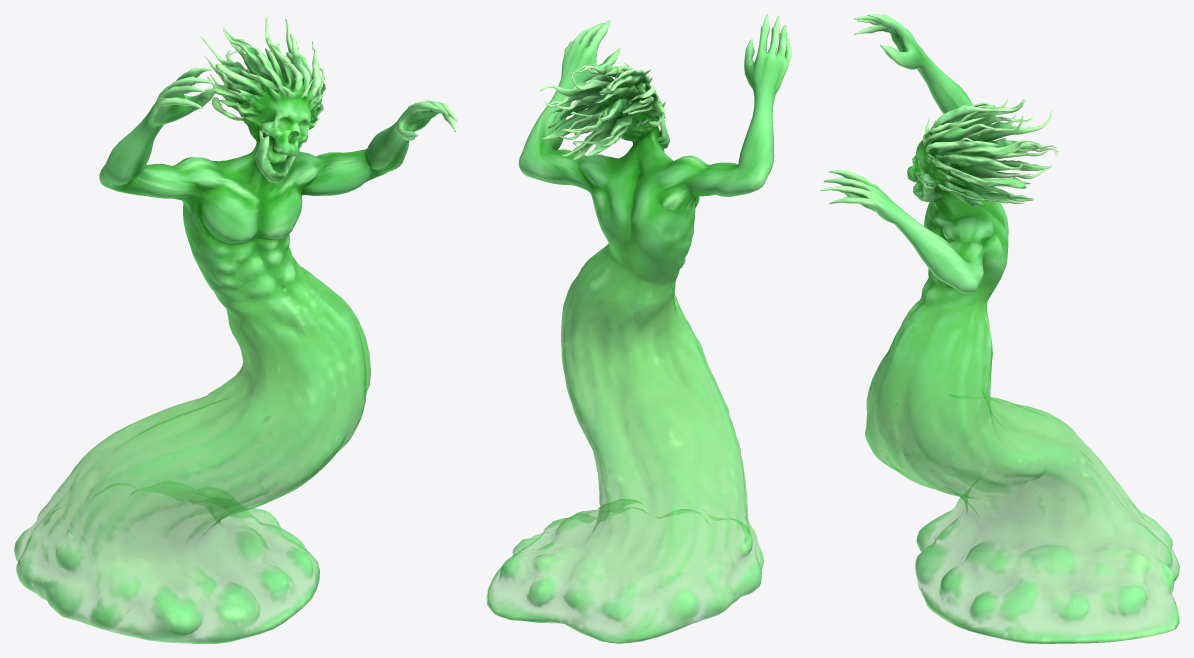
The model's file is MZ4250 - Specter_green.glb.
3 views of the same model, side by side, from view 1: azimuth 30°, elevation 25°; view 2: azimuth 150°, elevation 25°; view 3: azimuth 270°, elevation 25° (orthographic). The views are drawn at different scales.
Parts seen in each view (by area): view 1: Body.002; view 2: Body.002; view 3: Body.002.
Boxes of the visible parts, x1=… form: Body.002: x1=14, y1=14, x2=457, y2=643; Body.002: x1=486, y1=14, x2=791, y2=643; Body.002: x1=820, y1=14, x2=1179, y2=643.
Size of the model in its own units: 58.91 by 112 by 66.02.
Materials: 1 (1 with a texture image).
